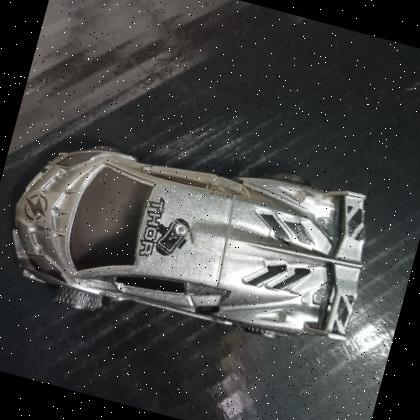Car: (11, 149, 364, 342)
